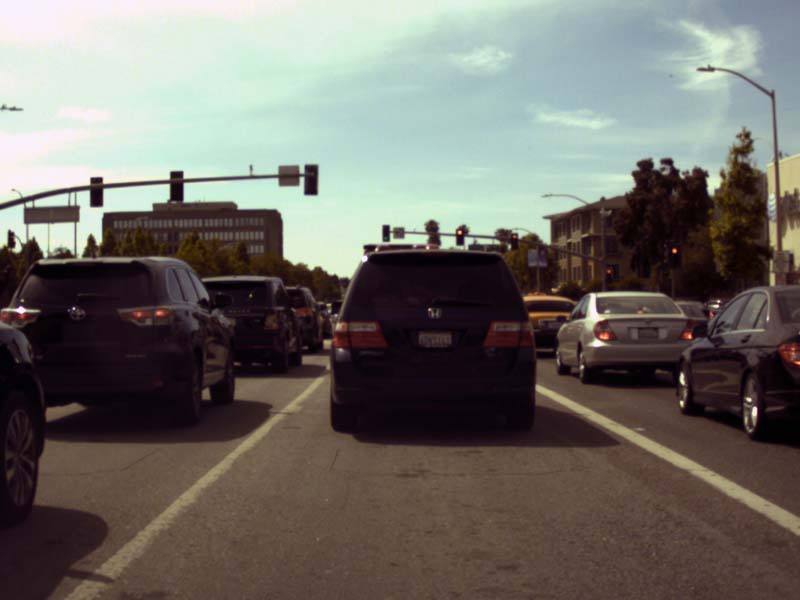Red: (668, 245, 680, 267), (456, 228, 463, 244), (605, 268, 611, 283), (511, 234, 517, 249)
